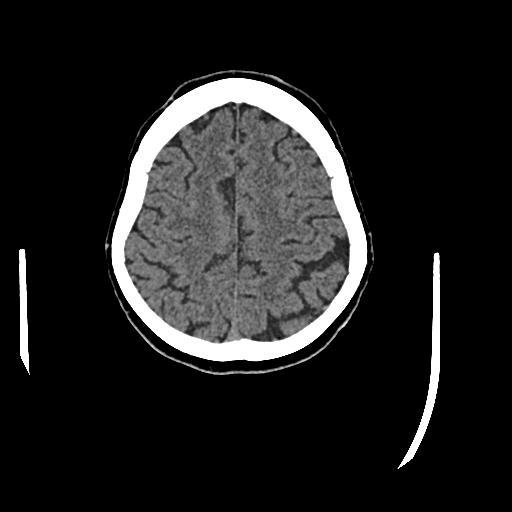Normal_Brain: (99, 67, 381, 383)
